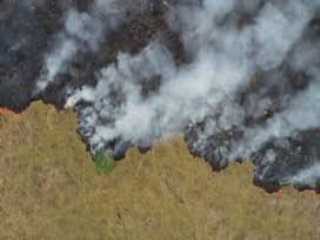smoke: (73, 41, 313, 175)
